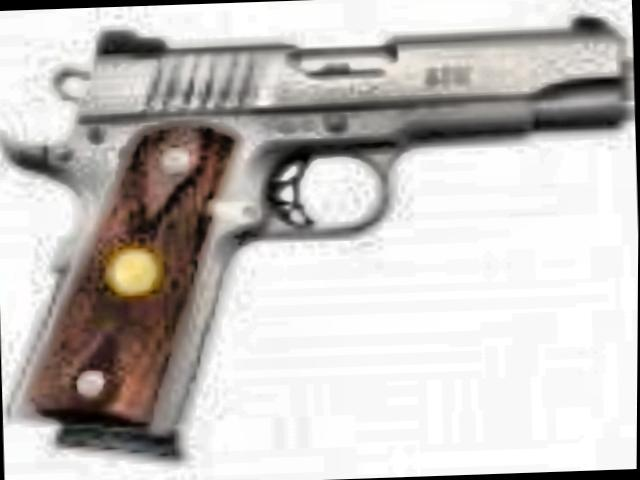pistol: (0, 1, 630, 447)
